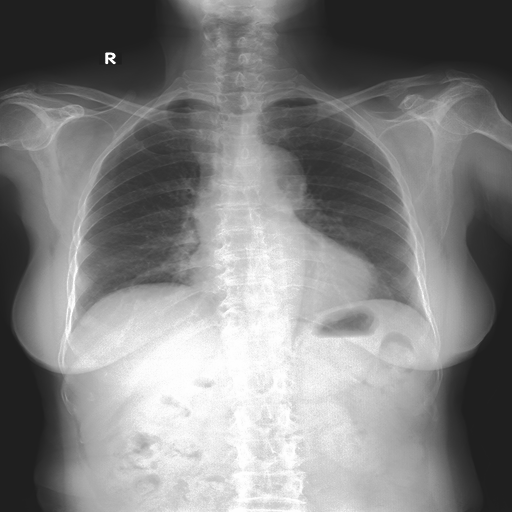Consolidation: (251, 146, 311, 208)
Nodule/Mass: (186, 245, 379, 304)
